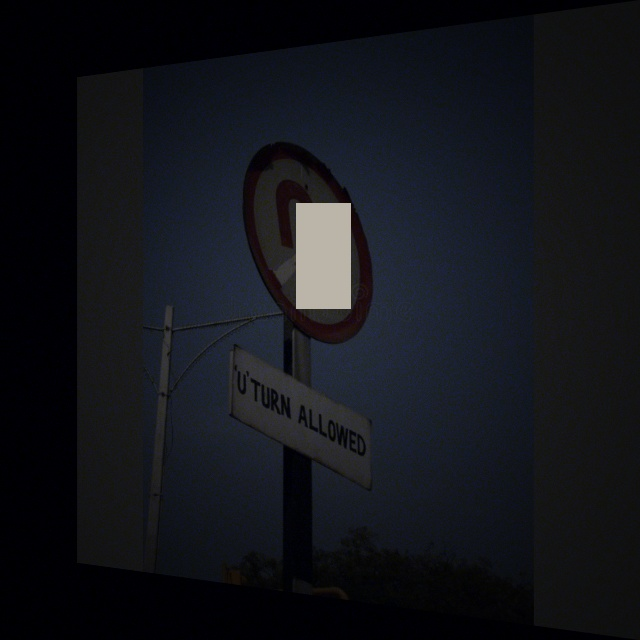U_Turn_Ahead: (233, 124, 384, 335)
